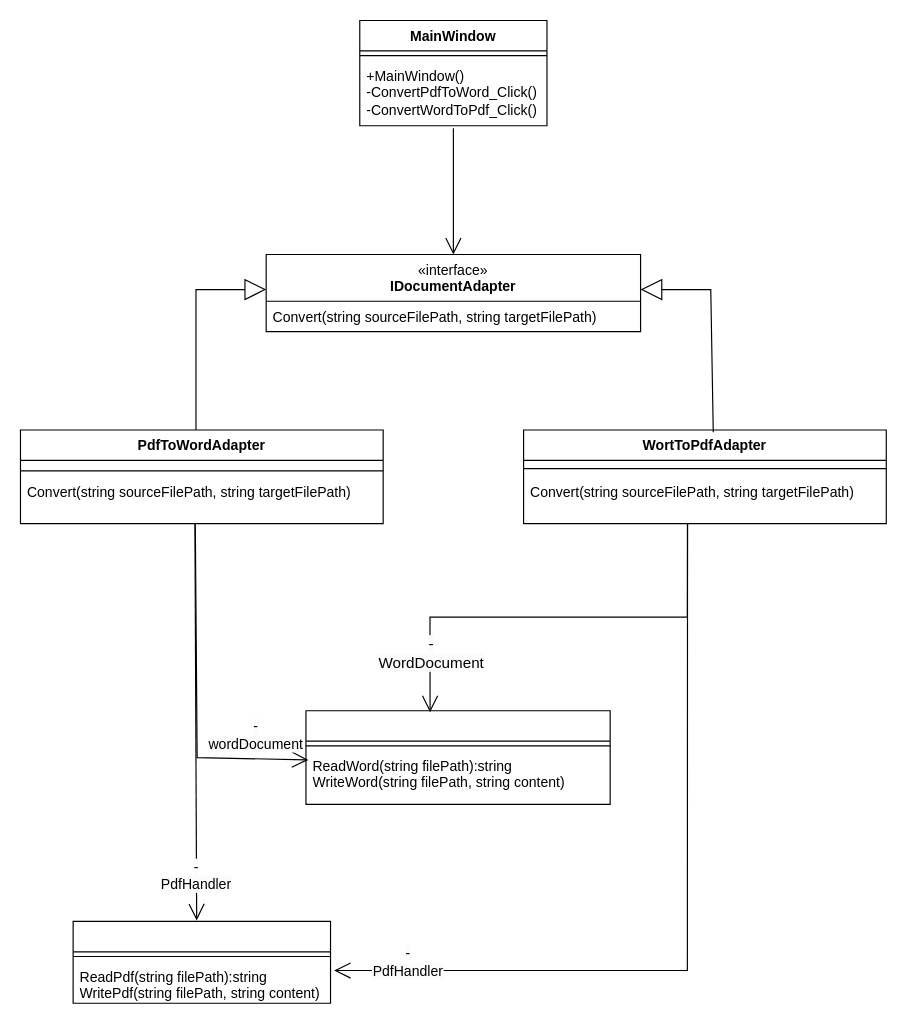
Image size: 907x1027. Some labels were removed from this diagram. The box of each missing label's shape, as (x1, y1, x2, y2) in pixels:
PdfHandler: (72, 920, 331, 1003)
WordDocument: (305, 710, 610, 804)
